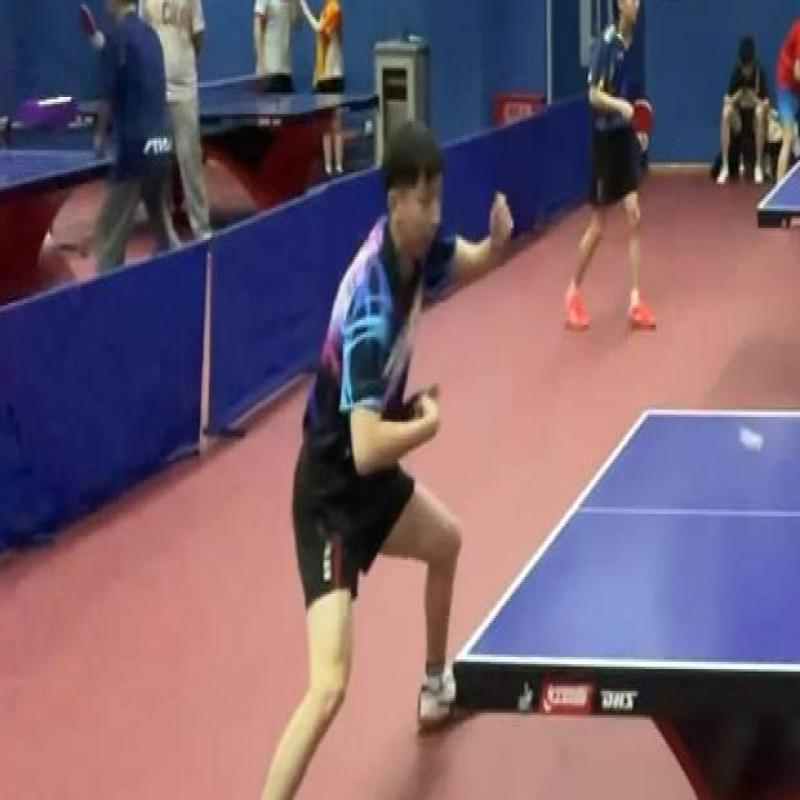bats: (395, 356, 449, 431)
